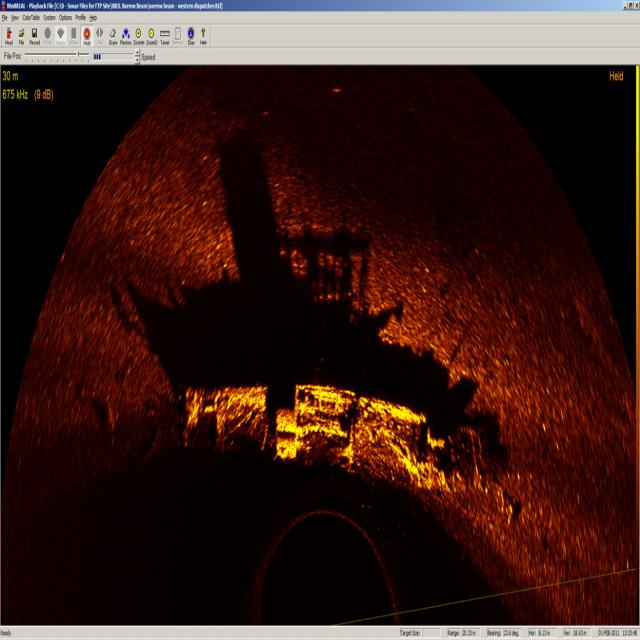ship: (177, 376, 492, 513)
